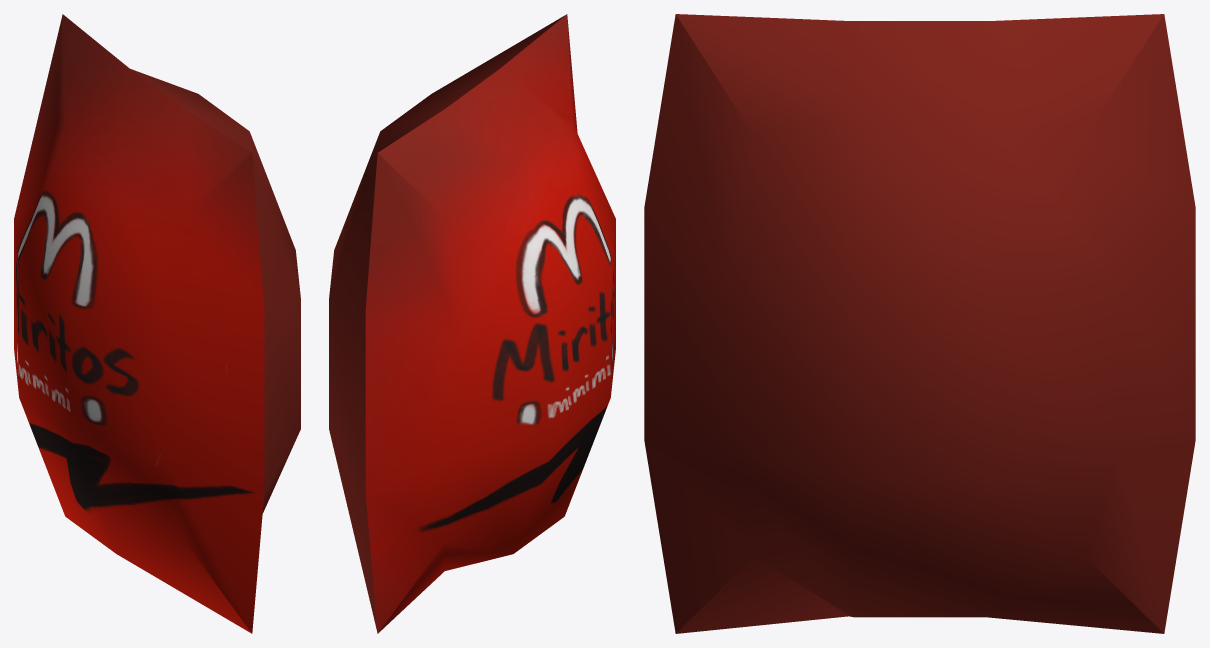
File: Chips.fbx
3 views of the same model, side by side, from view 1: azimuth 30°, elevation 25°; view 2: azimuth 150°, elevation 25°; view 3: azimuth 270°, elevation 25° (orthographic). The views are drawn at different scales.
Parts seen in each view (by area): view 1: Chips; view 2: Chips; view 3: Chips.
Boxes of the visible parts, x1,y1,x2,y2 form: Chips: (14, 14, 300, 633); Chips: (329, 14, 615, 633); Chips: (644, 14, 1195, 633).
Bounding box in the file's own units: 27.45 × 45.13 × 56.
